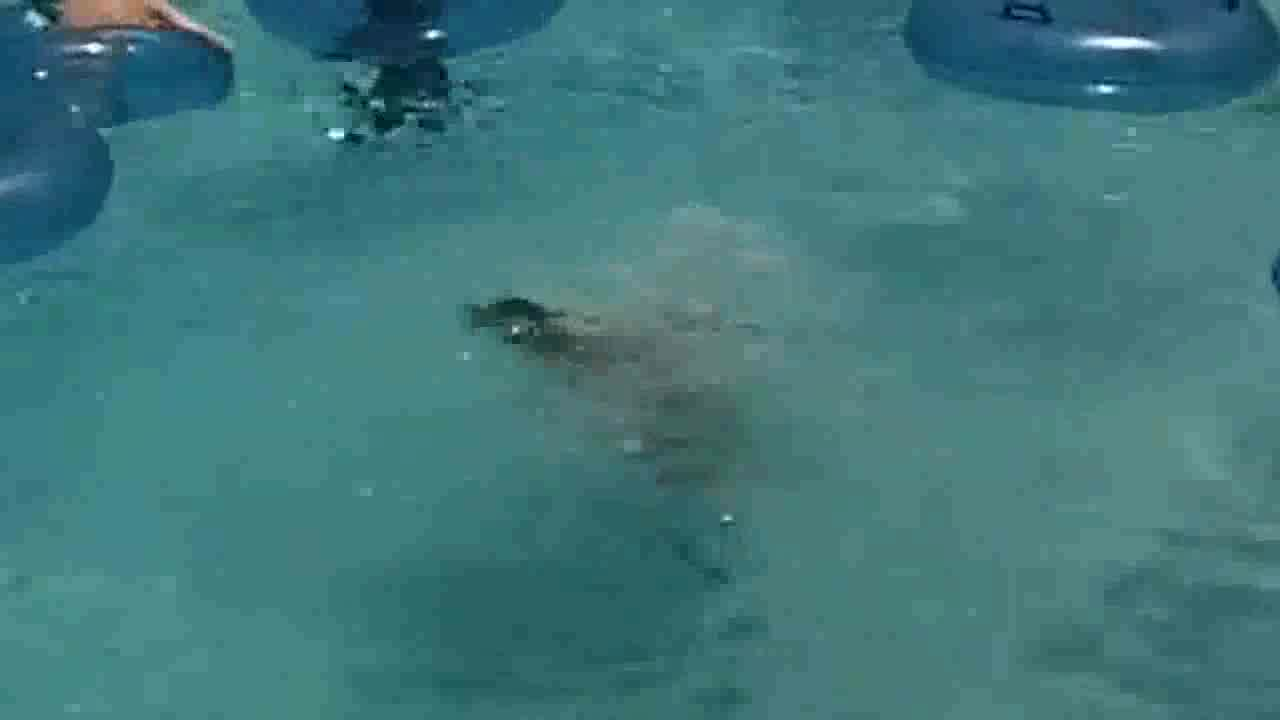Drowning: (470, 278, 738, 422)
